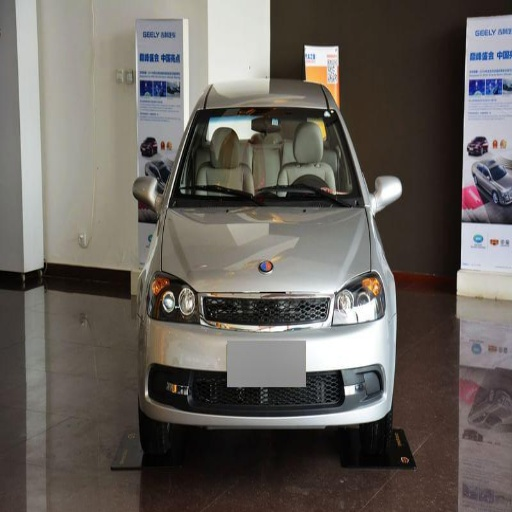front_bumper: (142, 292, 395, 429)
front_right_light: (145, 272, 196, 322)
hood: (163, 208, 371, 296)
